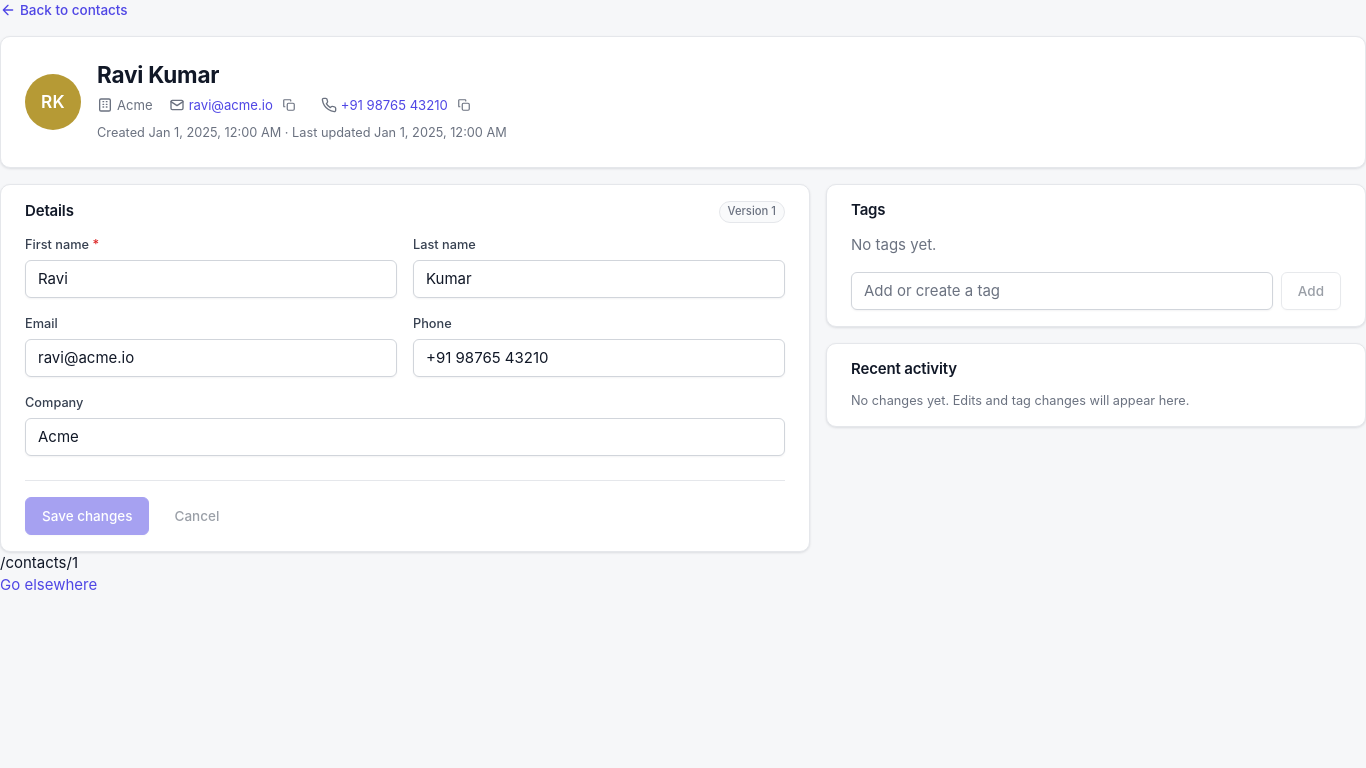
Scenario: Unsaved changes guard › asks before leaving with unsaved edits; "Keep editing" stays and keeps the draft
Expected: the heading "Ravi Kumar" is shown, [97,61,219,88]
Replace the text in the field labelled "Company" with "Draft Co" at (405, 437), box [25,418,785,456]
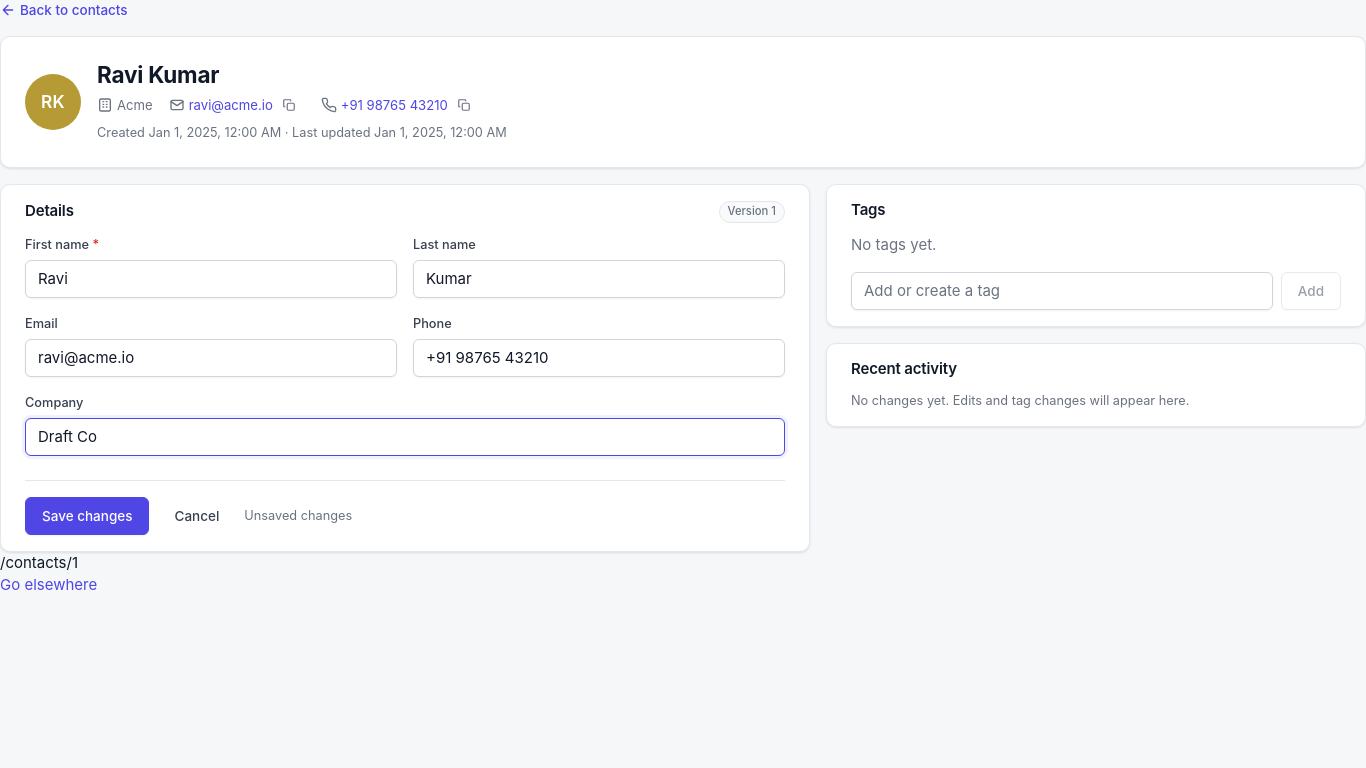
Click the link "Go elsewhere" at (49, 585), box [0,575,97,594]
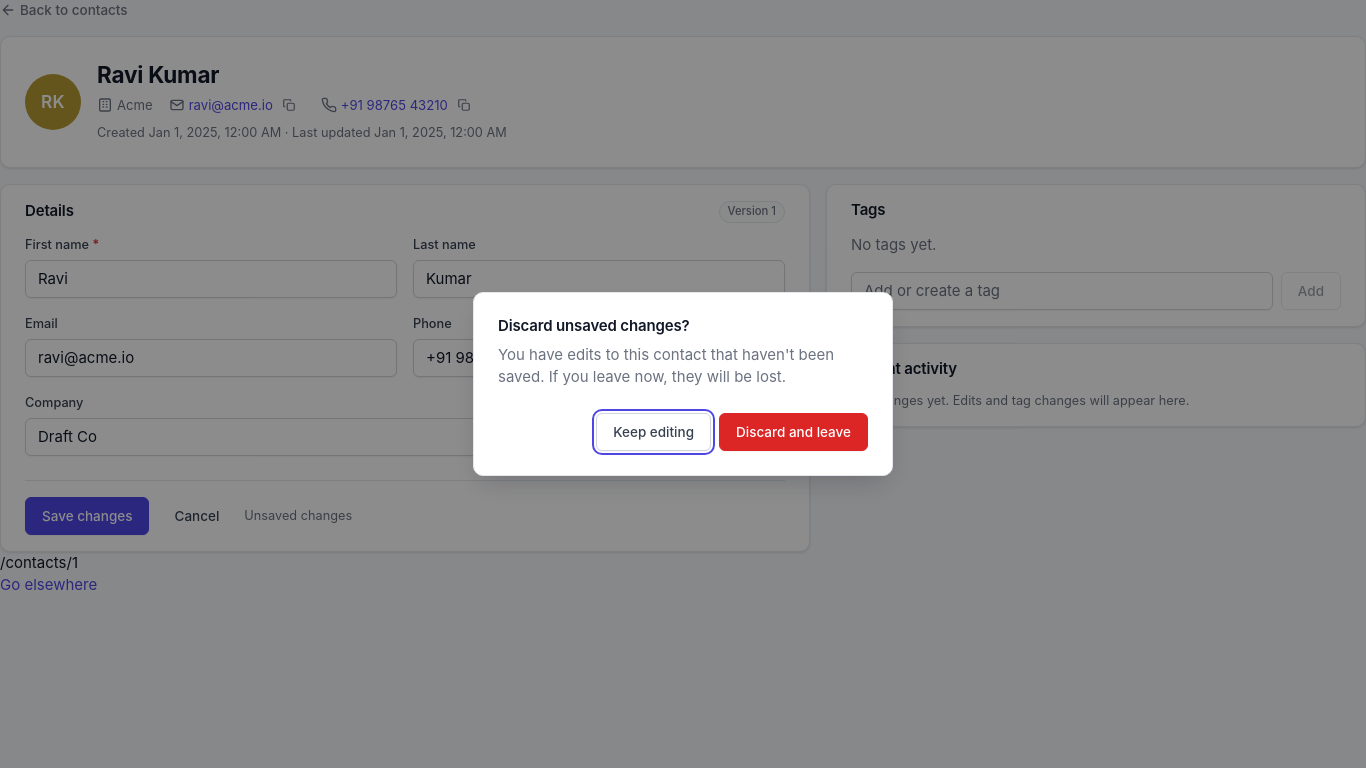
Expected: the text with test id "location" reads "/contacts/1", [0,553,78,572]
Expected: the dialog "Discard unsaved changes?" is shown, [473,292,893,476]
Click the button "Keep editing" at (654, 432), box [596,413,711,451]
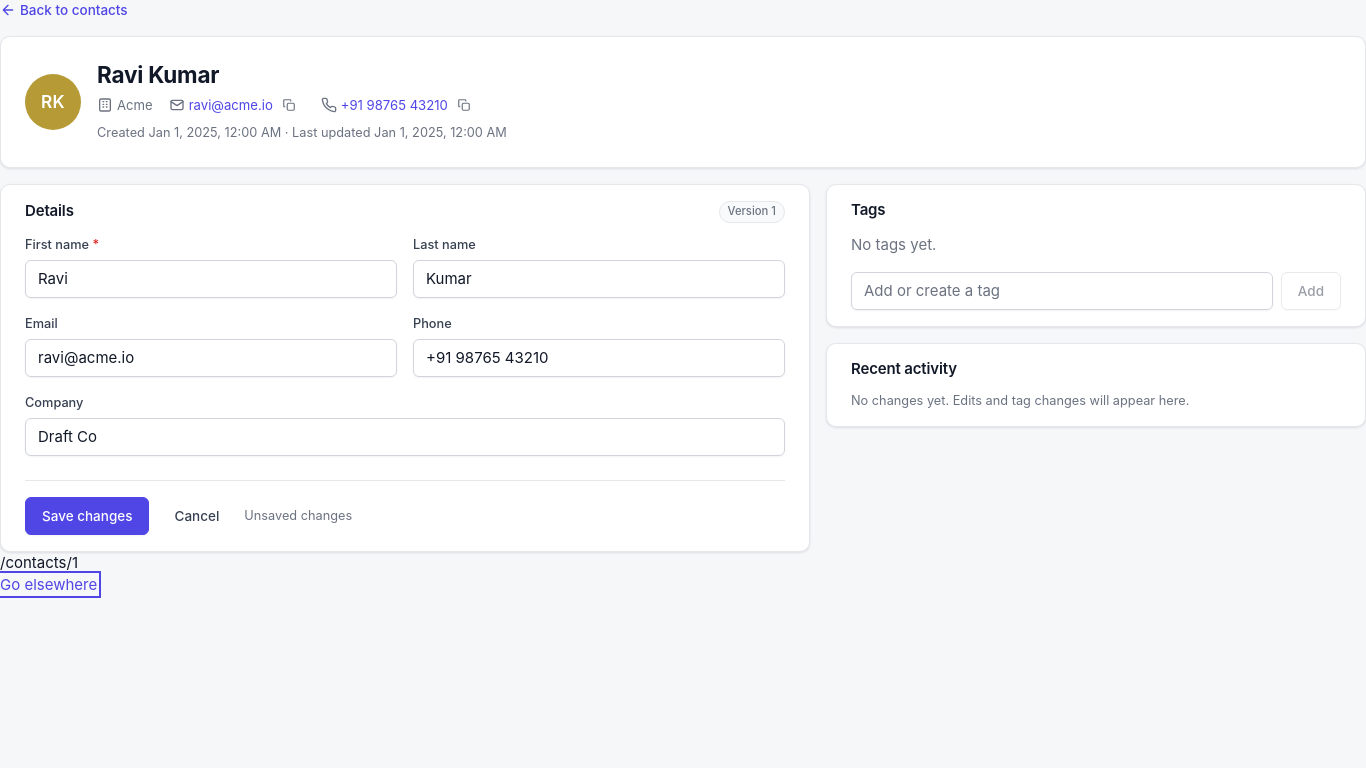
Expected: the text with test id "location" reads "/contacts/1", [0,553,78,572]
Expected: the heading "Discard unsaved changes?" is gone
